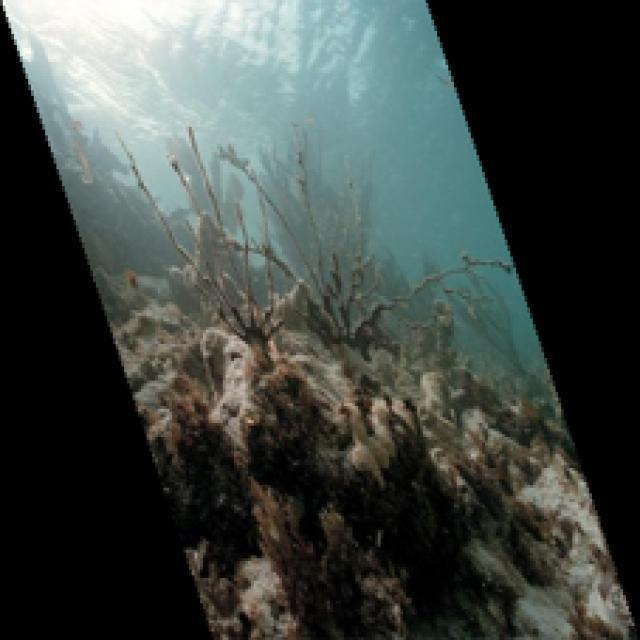Dead Coral: (161, 413, 456, 631)
